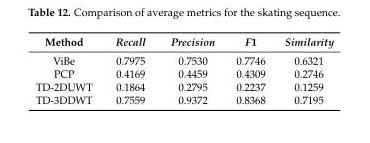table: (34, 34, 333, 106)
table column: (34, 34, 103, 106), (157, 34, 224, 106), (274, 34, 333, 106), (103, 34, 157, 106), (224, 34, 274, 106)
table column header: (34, 34, 333, 50)
table row: (34, 34, 333, 50), (34, 50, 333, 66), (34, 92, 333, 106), (34, 66, 333, 79), (34, 79, 333, 92)
